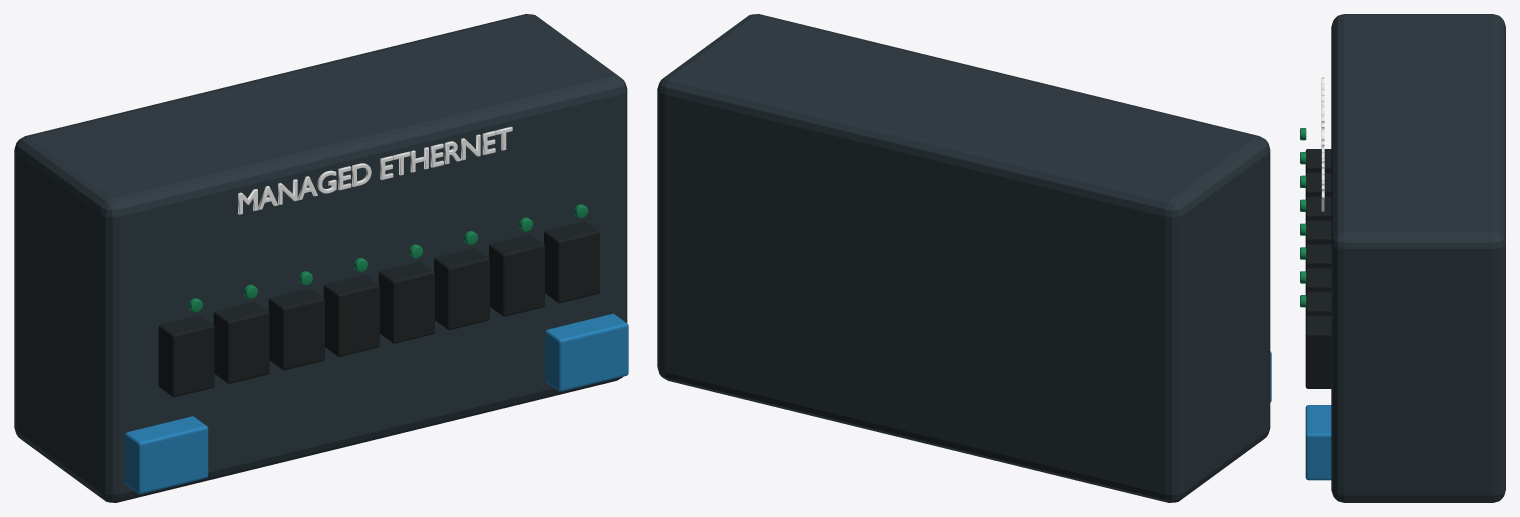
The model's file is managed_ethernet_switch.glb.
3 renders of one model, left to right at view 1: azimuth 30°, elevation 25°; view 2: azimuth 150°, elevation 25°; view 3: azimuth 270°, elevation 25°, orthographic. The views are drawn at different scales.
Visible parts, largest first — view 1: SWITCH_BODY, FIBER_PORT_-0.42, FIBER_PORT_0.42, RJ45_0, RJ45_1, RJ45_2, RJ45_4, RJ45_3, RJ45_7, RJ45_6, RJ45_5, SWITCH_LABEL; view 2: SWITCH_BODY; view 3: SWITCH_BODY, FIBER_PORT_0.42, RJ45_7, RJ45_4, RJ45_3, RJ45_5, RJ45_6, RJ45_2, RJ45_1, RJ45_0, SWITCH_LABEL.
Part boxes in pixels (bbox=[...]): SWITCH_BODY: bbox=[14, 14, 627, 502]; FIBER_PORT_-0.42: bbox=[124, 416, 208, 494]; FIBER_PORT_0.42: bbox=[545, 313, 628, 391]; RJ45_0: bbox=[158, 315, 214, 397]; RJ45_1: bbox=[213, 301, 269, 383]; RJ45_2: bbox=[268, 288, 324, 370]; RJ45_4: bbox=[378, 261, 434, 343]; RJ45_3: bbox=[323, 275, 379, 356]; RJ45_7: bbox=[544, 221, 599, 303]; RJ45_6: bbox=[489, 234, 544, 316]; RJ45_5: bbox=[434, 248, 489, 329]; SWITCH_LABEL: bbox=[238, 126, 512, 214]; SWITCH_BODY: bbox=[657, 14, 1270, 502]; SWITCH_BODY: bbox=[1331, 14, 1505, 502]; FIBER_PORT_0.42: bbox=[1305, 405, 1331, 480]; RJ45_7: bbox=[1305, 316, 1331, 388]; RJ45_4: bbox=[1305, 244, 1331, 269]; RJ45_3: bbox=[1305, 220, 1331, 245]; RJ45_5: bbox=[1305, 268, 1331, 293]; RJ45_6: bbox=[1305, 292, 1331, 317]; RJ45_2: bbox=[1305, 196, 1331, 221]; RJ45_1: bbox=[1305, 172, 1331, 197]; RJ45_0: bbox=[1305, 149, 1331, 174]; SWITCH_LABEL: bbox=[1321, 77, 1324, 211].
Size of the model in its own units: 1.05 by 0.58 by 0.401.
